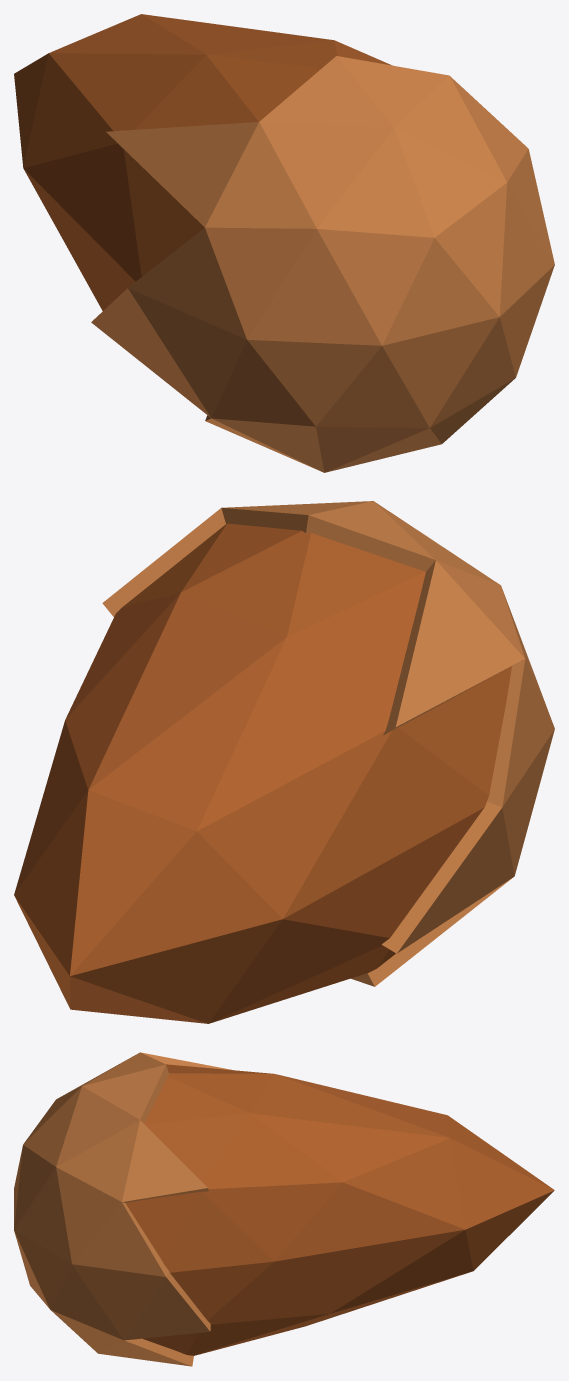
The model's file is firebolt.glb.
The picture shows the model from 3 angles, top to bottom: view 1: azimuth 30°, elevation 25°; view 2: azimuth 150°, elevation 25°; view 3: azimuth 270°, elevation 25°; orthographic projection. The views are drawn at different scales.
Parts seen in each view (by area): view 1: FireBolt; view 2: FireBolt; view 3: FireBolt.
Boxes of the visible parts, box(x1,y1,x2,y2) form: FireBolt: box(14, 14, 554, 472); FireBolt: box(14, 501, 554, 1023); FireBolt: box(14, 1052, 554, 1366).
Bounding box in the file's own units: 0.9814 × 0.9814 × 1.66.
